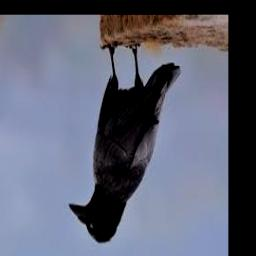Crow: (68, 42, 181, 245)
